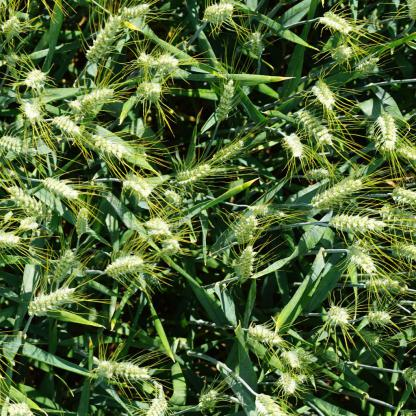whd: (308, 173, 366, 207), (84, 16, 124, 62), (5, 182, 49, 219), (27, 286, 77, 317), (296, 111, 333, 146), (233, 241, 258, 290), (79, 132, 127, 157), (229, 215, 260, 253), (0, 134, 44, 158), (308, 78, 340, 110), (343, 244, 377, 274), (206, 140, 246, 164), (172, 160, 212, 184), (381, 206, 415, 234), (107, 359, 149, 380), (330, 215, 384, 231), (374, 113, 396, 151), (41, 178, 80, 199), (316, 12, 353, 34), (50, 249, 74, 282), (256, 395, 294, 415), (215, 80, 233, 121), (249, 324, 284, 345), (18, 100, 46, 126), (82, 88, 115, 110), (52, 116, 84, 137), (108, 256, 140, 277), (122, 173, 152, 195), (203, 2, 232, 24), (143, 213, 167, 238), (160, 234, 183, 259), (281, 131, 304, 156), (365, 277, 399, 293), (253, 202, 286, 218), (1, 16, 21, 40), (247, 31, 266, 56), (137, 81, 160, 101), (328, 44, 353, 62), (390, 186, 416, 203), (355, 58, 379, 76), (22, 69, 46, 87), (5, 400, 32, 416), (327, 305, 350, 323), (392, 243, 416, 260), (121, 4, 150, 18), (65, 99, 87, 117), (394, 144, 416, 161), (146, 398, 168, 415), (164, 189, 187, 205), (367, 310, 391, 325), (196, 390, 216, 407), (0, 232, 22, 247), (137, 52, 156, 69), (356, 330, 379, 344), (77, 209, 89, 235), (138, 271, 160, 285), (282, 350, 300, 367), (96, 360, 112, 379), (157, 54, 176, 70), (280, 376, 295, 396), (20, 216, 38, 231), (400, 367, 414, 386), (304, 168, 327, 179), (6, 51, 20, 67), (405, 0, 415, 19), (354, 239, 368, 252), (301, 356, 310, 366), (294, 375, 305, 383)
